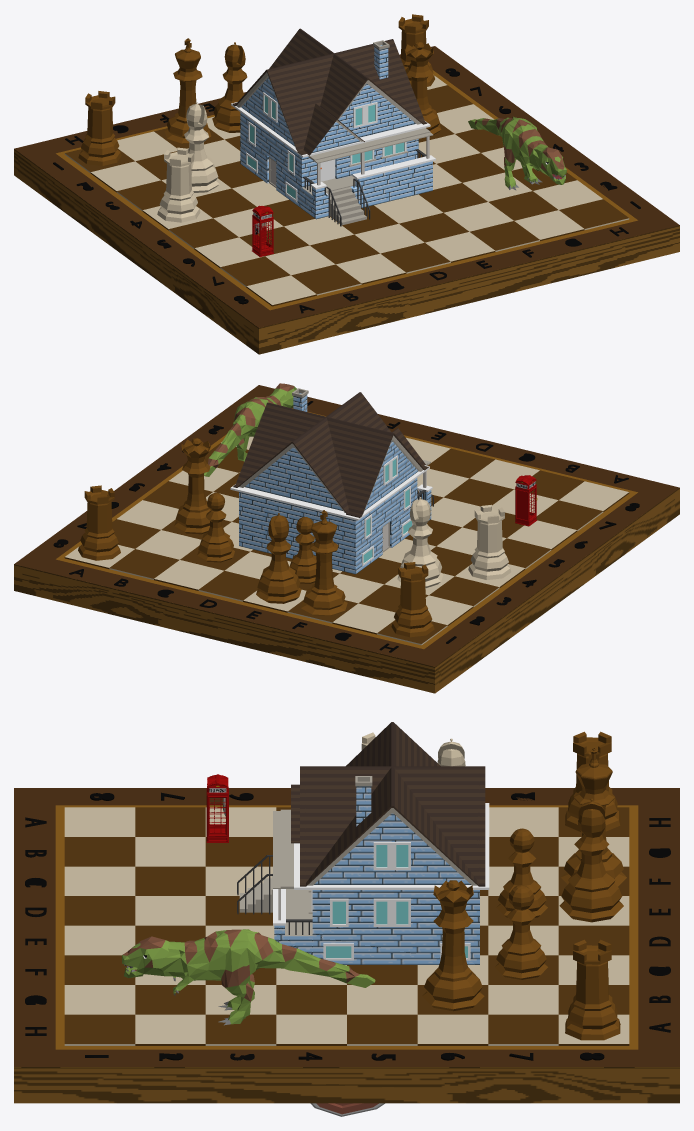
The picture shows the model from 3 angles, top to bottom: view 1: azimuth 30°, elevation 25°; view 2: azimuth 150°, elevation 25°; view 3: azimuth 270°, elevation 25°; orthographic projection. The views are drawn at different scales.
Parts seen in each view (by area): view 1: Cube.002, Cube.547, ANIMAL_TREX, OBJRANDOM_PHONEBOOTH; view 2: Cube.002, Cube.547, ANIMAL_TREX, OBJRANDOM_PHONEBOOTH; view 3: Cube.002, Cube.547, ANIMAL_TREX, OBJRANDOM_PHONEBOOTH, UNDERGROUND_TREASURE.
Part boxes in pixels (x1=…): Cube.002: x1=14, y1=14, x2=679, y2=354; Cube.547: x1=231, y1=28, x2=435, y2=226; ANIMAL_TREX: x1=468, y1=116, x2=566, y2=190; OBJRANDOM_PHONEBOOTH: x1=252, y1=205, x2=273, y2=256; Cube.002: x1=14, y1=385, x2=679, y2=693; Cube.547: x1=230, y1=388, x2=433, y2=574; ANIMAL_TREX: x1=204, y1=383, x2=296, y2=476; OBJRANDOM_PHONEBOOTH: x1=515, y1=475, x2=537, y2=526; Cube.002: x1=14, y1=731, x2=679, y2=1103; Cube.547: x1=237, y1=722, x2=489, y2=964; ANIMAL_TREX: x1=122, y1=929, x2=375, y2=1025; OBJRANDOM_PHONEBOOTH: x1=206, y1=774, x2=228, y2=842; UNDERGROUND_TREASURE: x1=310, y1=1103, x2=384, y2=1116.
Bounding box in the file's own units: 3981 × 2201 × 4012.
Materials: 38 (3 with a texture image).
